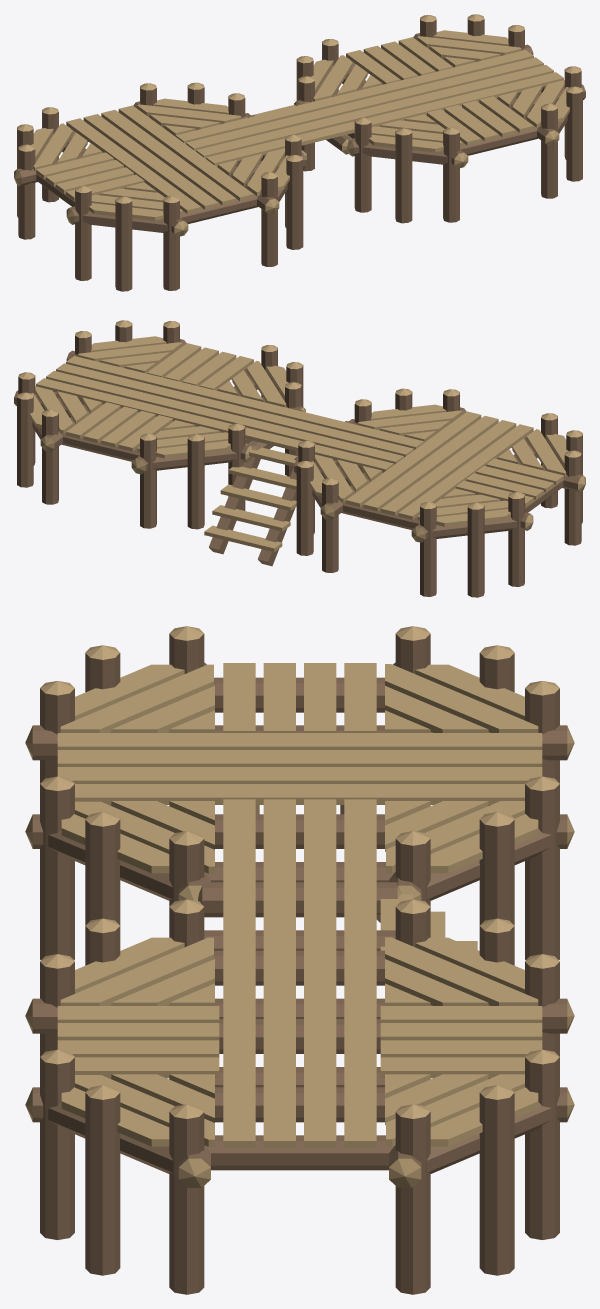
Rendered from WoodenPlatformTwo.fbx.
3 views of the same model, one above another, from view 1: azimuth 30°, elevation 25°; view 2: azimuth 150°, elevation 25°; view 3: azimuth 270°, elevation 25° (orthographic). The views are drawn at different scales.
Visible parts, largest first — view 1: mergedBlocks; view 2: mergedBlocks; view 3: mergedBlocks.
Part boxes in pixels (x1,y1,x2,y2): mergedBlocks: (14,14,585,291); mergedBlocks: (14,320,585,597); mergedBlocks: (25,626,574,1294).
Size of the model in its own units: 74 by 14.44 by 34.
